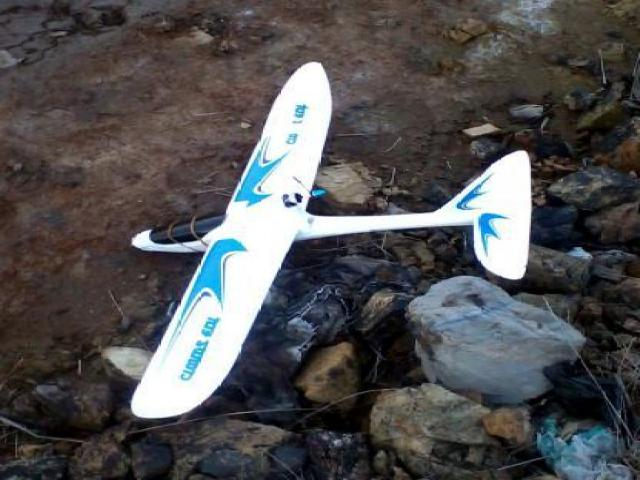uav: (123, 58, 539, 420)
